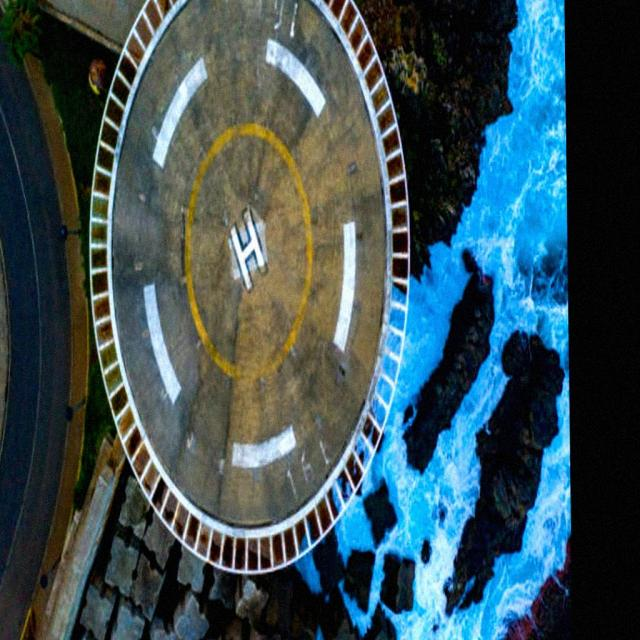helipad: (178, 117, 316, 386)
